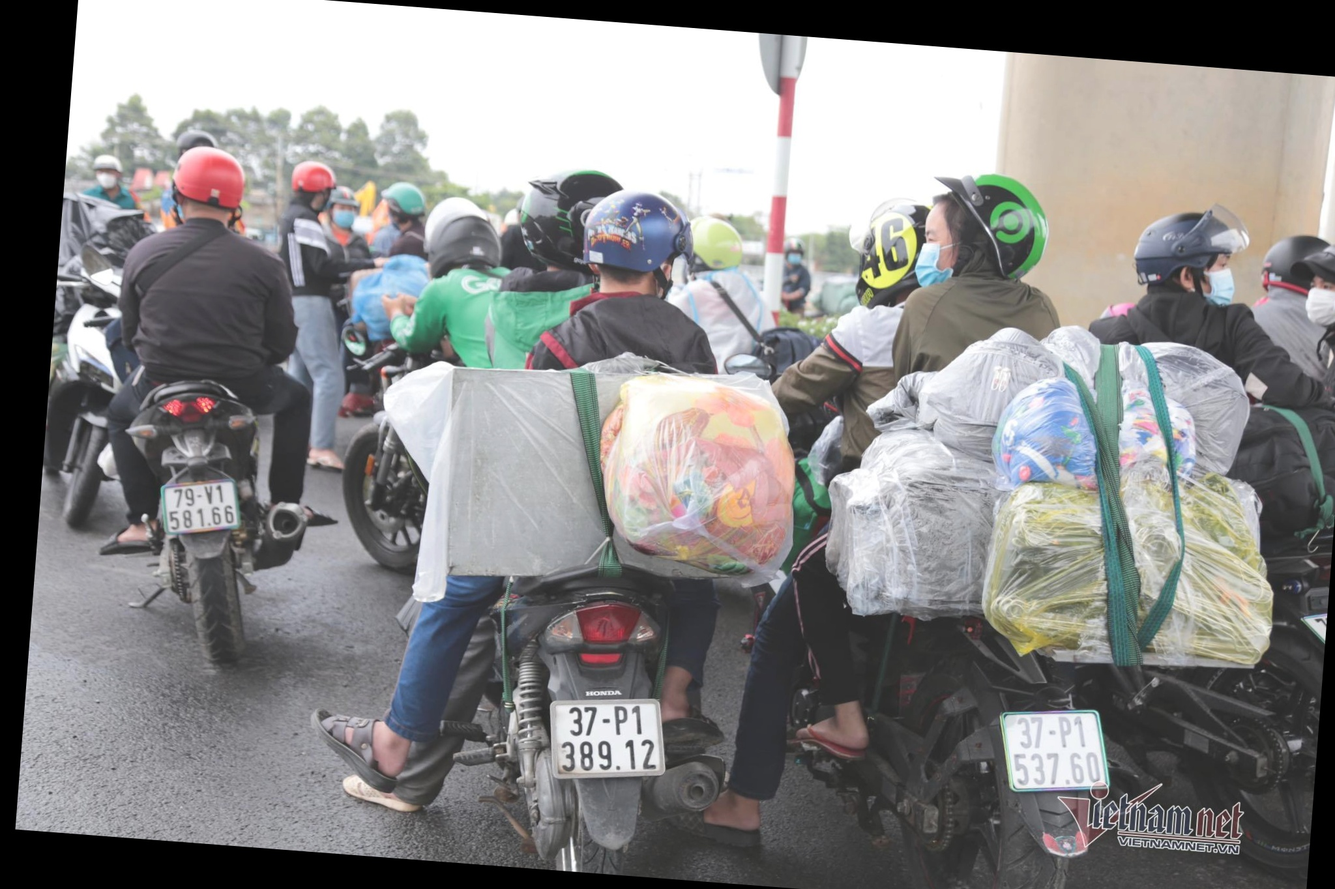Bien-so: (562, 699, 692, 793), (1042, 703, 1165, 794), (142, 491, 229, 557)
